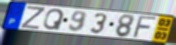3: (89, 13, 108, 35)
8: (114, 13, 136, 39)
9: (67, 10, 87, 33)
F: (131, 15, 159, 39)
Q: (42, 8, 66, 31)
Z: (20, 5, 46, 31)
